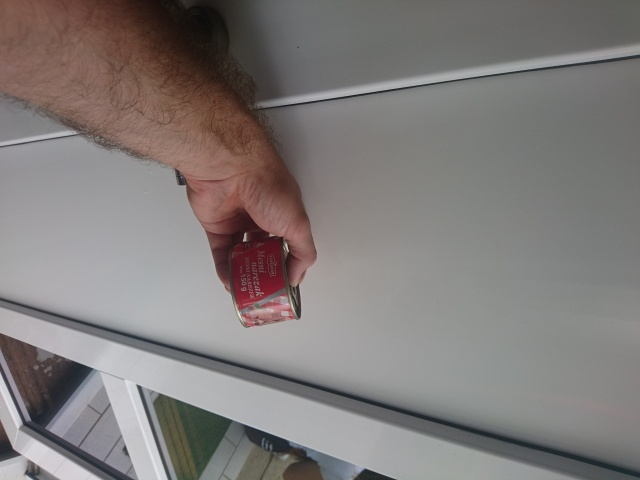Podravka Luncheon Meat 150g: (224, 231, 303, 330)
